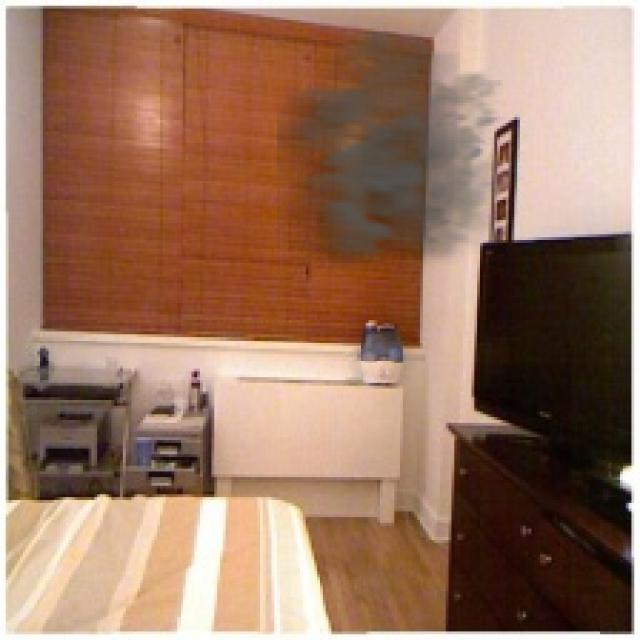smoke: (277, 31, 529, 280)
